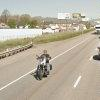Motorcycle: (29, 49, 53, 84)
